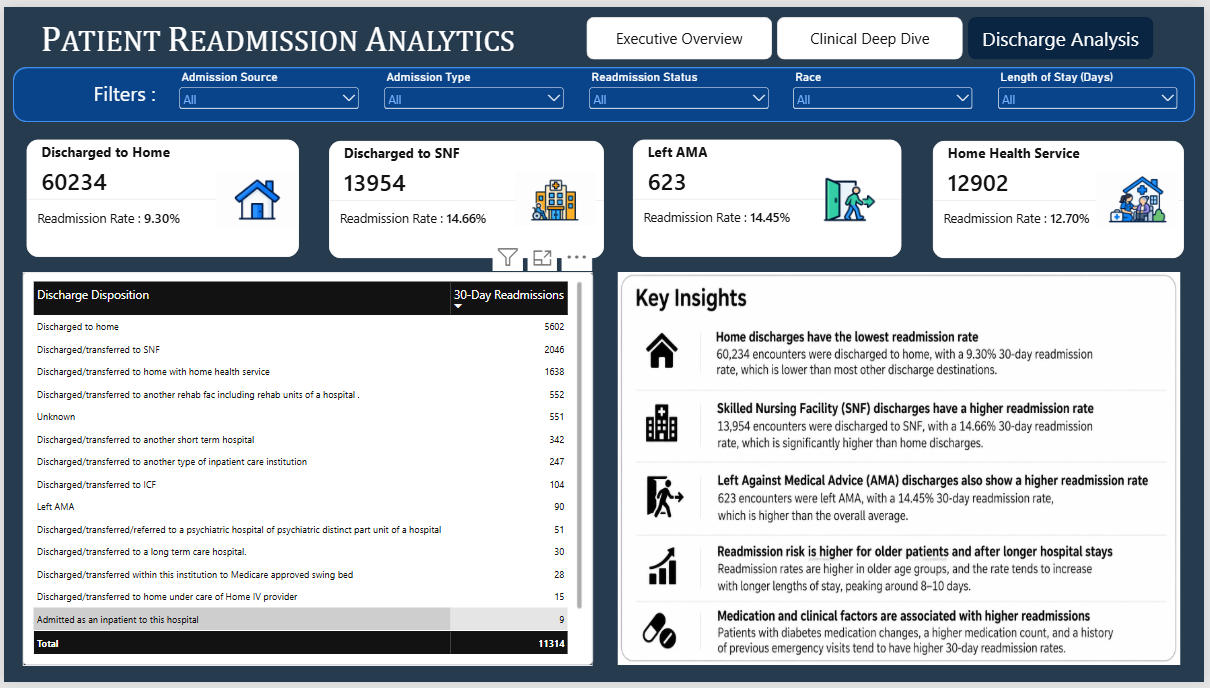

The page's visual inventory and layout, read from the dashboard file:
{"tool":"powerbi","page":{"name":"Discharge Analysis","canvas":[1920,1080],"ordinal":2},"visuals":[{"type":"textbox","box":[36.4,15.9,804.5,86.4],"z":0},{"type":"pageNavigator","box":[932,16.3,908.4,68.8],"z":1000},{"type":"shape","box":[13.7,96.1,1892.2,88.2],"z":2000},{"type":"textbox","box":[105,115.8,186.4,56.1],"z":3000},{"type":"cardVisual","fields":{"Data":["Measures Table.Home Encounters"]},"box":[36,212,436,188],"z":4000},{"type":"cardVisual","fields":{"Data":["Measures Table.Home Health Service"]},"box":[1486.8,214.8,402,188],"z":5000},{"type":"cardVisual","fields":{"Data":["Measures Table.Left AMA"]},"box":[1006,212,430,188],"z":6000},{"type":"cardVisual","fields":{"Data":["Measures Table.Discharged to SNF"]},"box":[520,214,440,188],"z":7000},{"type":"image","box":[324,263.4,162,88],"z":8000},{"type":"image","box":[812.3,264.4,142,86],"z":9000},{"type":"image","box":[1280.5,243.4,142,128],"z":10000},{"type":"image","box":[1748.8,263.4,132,88],"z":11000},{"type":"tableEx","fields":{"Values":["dim_discharge_disposition.Discharge Disposition","Measures Table.30-Day Readmissions"]},"box":[30.6,424.5,912.2,628.6],"z":12000},{"type":"slicer","fields":{"Values":["fact_readmission.Race"]},"box":[1258.5,100.4,296,74],"z":13000},{"type":"slicer","fields":{"Values":["dim_admission_source.Admission Source"]},"box":[276,100.4,296,74],"z":14000},{"type":"slicer","fields":{"Values":["dim_admission_type.Admission Type"]},"box":[603.5,100.4,296,74],"z":15000},{"type":"slicer","fields":{"Values":["fact_readmission.Readmission Status"]},"box":[931,100.4,296,74],"z":16000},{"type":"slicer","fields":{"Values":["fact_readmission.Length of Stay (Days)"]},"box":[1586,100.4,296,74],"z":17000},{"type":"image","box":[981.6,424.5,900,628.6],"z":18000}]}

Visuals, with their boxes in screenshot pixels (x1, y1, x2, y2), scaled from the page's 1920x1080 canvas onto the 1210x688 screenshot:
textbox: left=23, top=10, right=530, bottom=65
pageNavigator: left=587, top=10, right=1160, bottom=54
shape: left=9, top=61, right=1201, bottom=117
textbox: left=66, top=74, right=184, bottom=110
cardVisual - Measures Table.Home Encounters: left=23, top=135, right=297, bottom=255
cardVisual - Measures Table.Home Health Service: left=937, top=137, right=1190, bottom=257
cardVisual - Measures Table.Left AMA: left=634, top=135, right=905, bottom=255
cardVisual - Measures Table.Discharged to SNF: left=328, top=136, right=605, bottom=256
image: left=204, top=168, right=306, bottom=224
image: left=512, top=168, right=601, bottom=223
image: left=807, top=155, right=896, bottom=237
image: left=1102, top=168, right=1185, bottom=224
tableEx - dim_discharge_disposition.Discharge Disposition x Measures Table.30-Day Readmissions: left=19, top=270, right=594, bottom=671
slicer - fact_readmission.Race: left=793, top=64, right=980, bottom=111
slicer - dim_admission_source.Admission Source: left=174, top=64, right=360, bottom=111
slicer - dim_admission_type.Admission Type: left=380, top=64, right=567, bottom=111
slicer - fact_readmission.Readmission Status: left=587, top=64, right=773, bottom=111
slicer - fact_readmission.Length of Stay (Days): left=1000, top=64, right=1186, bottom=111
image: left=619, top=270, right=1186, bottom=671
